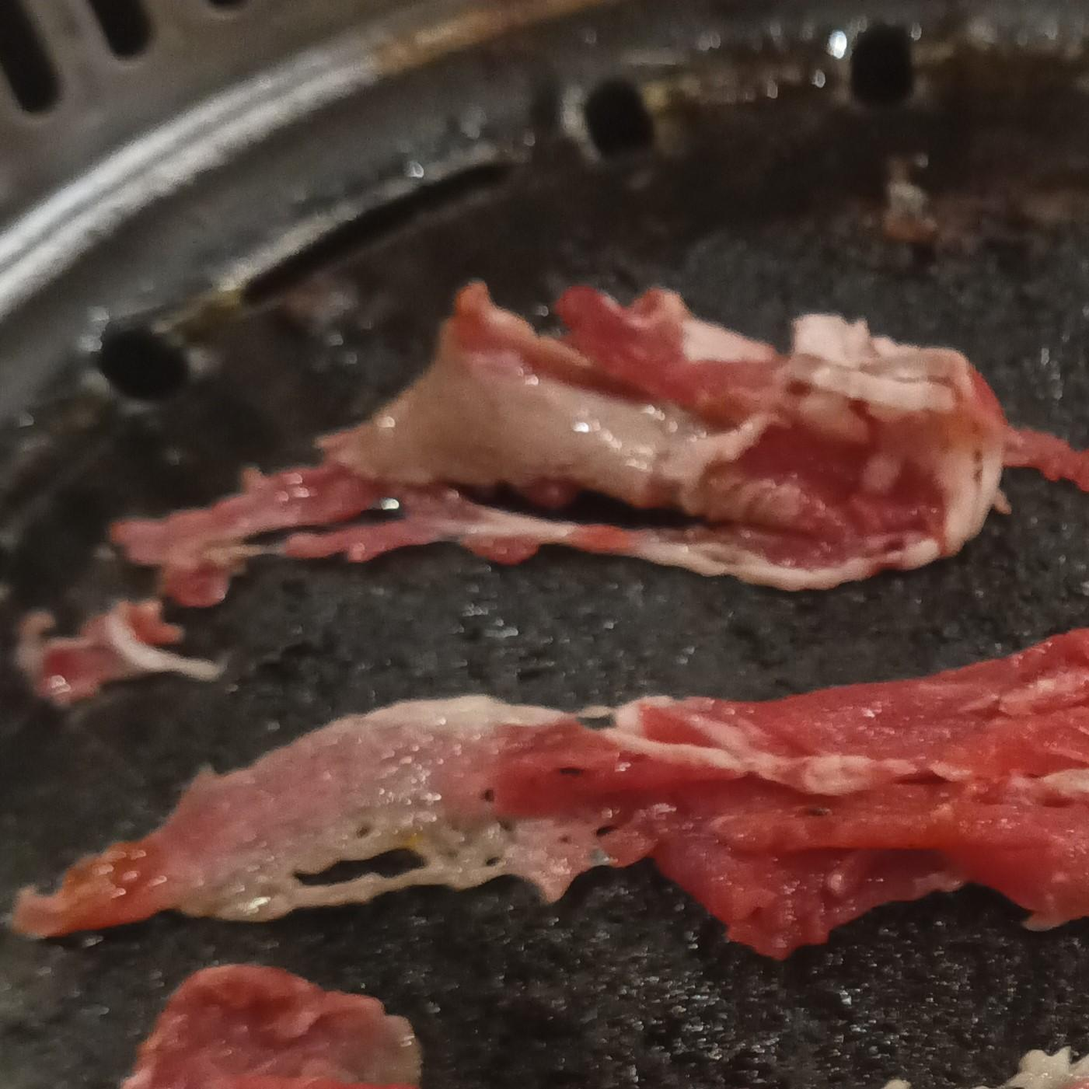Undercooked: (12, 631, 1088, 958), (111, 283, 1088, 606), (121, 965, 421, 1088), (16, 601, 218, 705)
